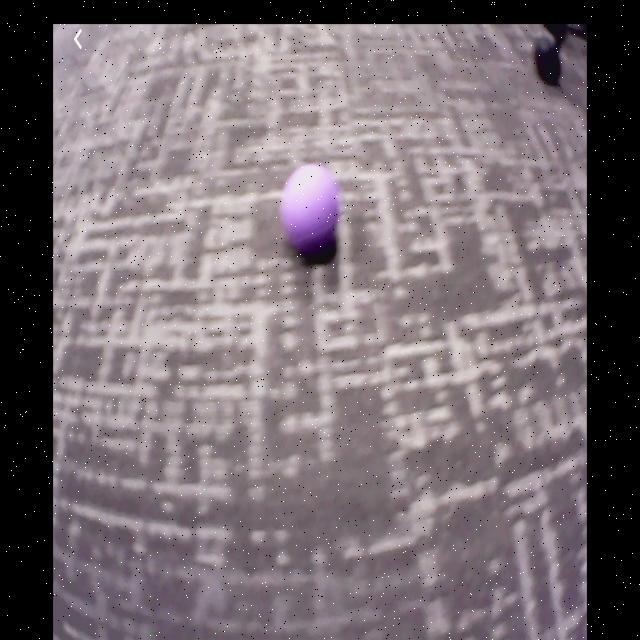ball: (283, 166, 338, 253)
